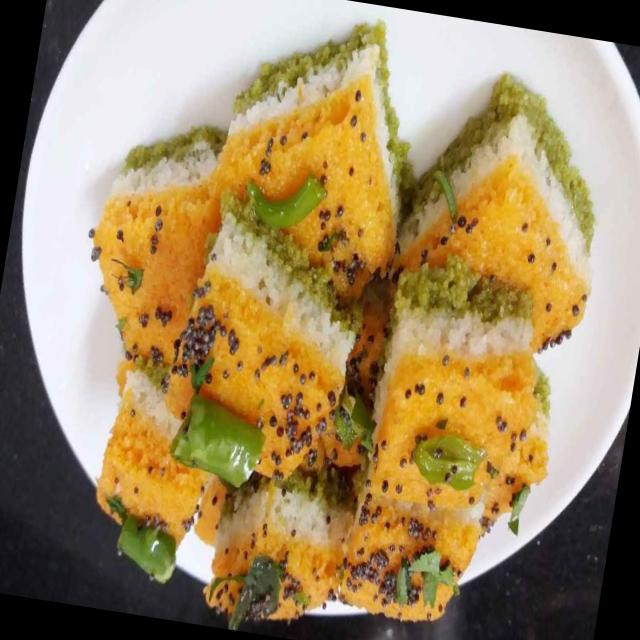dhokla: (8, 0, 614, 640)
